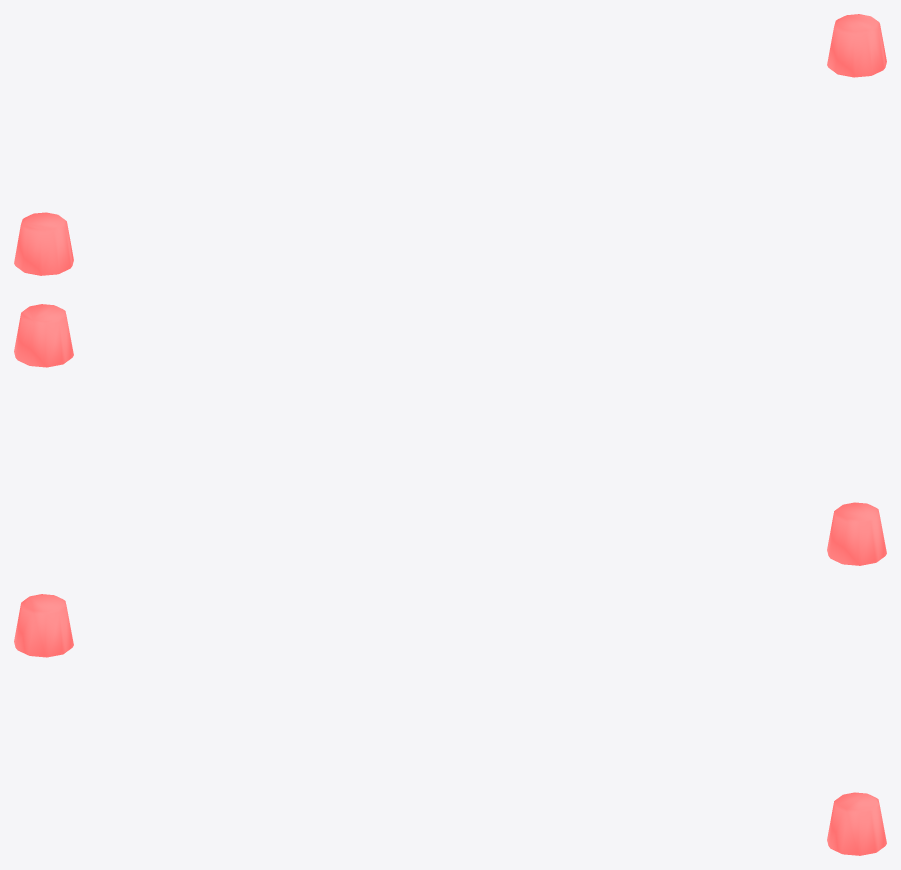
The model's file is Neon_Barrera_Luces.fbx.
3 views of the same model, one above another, from view 1: azimuth 30°, elevation 25°; view 2: azimuth 150°, elevation 25°; view 3: azimuth 330°, elevation 25° (orthographic).
Parts seen in each view (by area): view 1: Barrera_Luces; view 2: Barrera_Luces; view 3: Barrera_Luces.
Part boxes in pixels (bbox=[...]): Barrera_Luces: bbox=[14, 14, 886, 275]; Barrera_Luces: bbox=[14, 304, 886, 565]; Barrera_Luces: bbox=[14, 594, 886, 855].
Bounding box in the file's own units: 12.75 × 0.6 × 0.7786.
